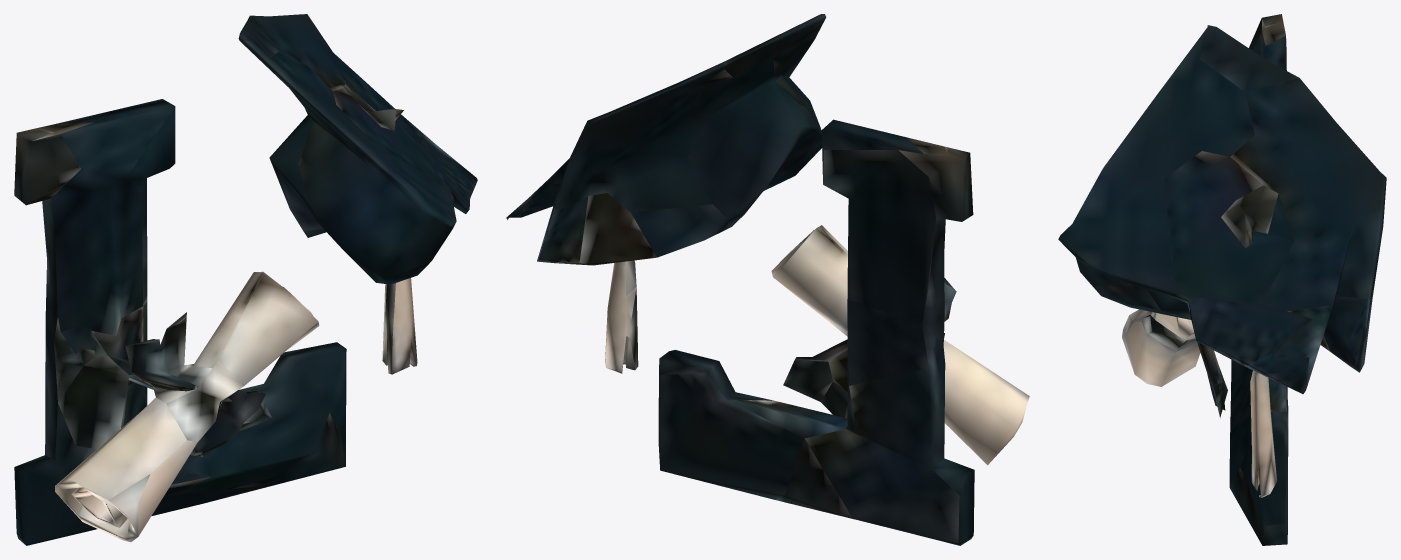
3 views of the same model, side by side, from view 1: azimuth 30°, elevation 25°; view 2: azimuth 150°, elevation 25°; view 3: azimuth 270°, elevation 25° (orthographic). The views are drawn at different scales.
Visible parts, largest first — view 1: Graduation-L; view 2: Graduation-L; view 3: Graduation-L.
Boxes of the visible parts, x1,y1,x2,y2 form: Graduation-L: (14,14,477,545); Graduation-L: (506,14,1029,545); Graduation-L: (1058,14,1386,545).
Size of the model in its own units: 0.2861 by 0.2762 by 0.1778.
1 material, 1 textured.
